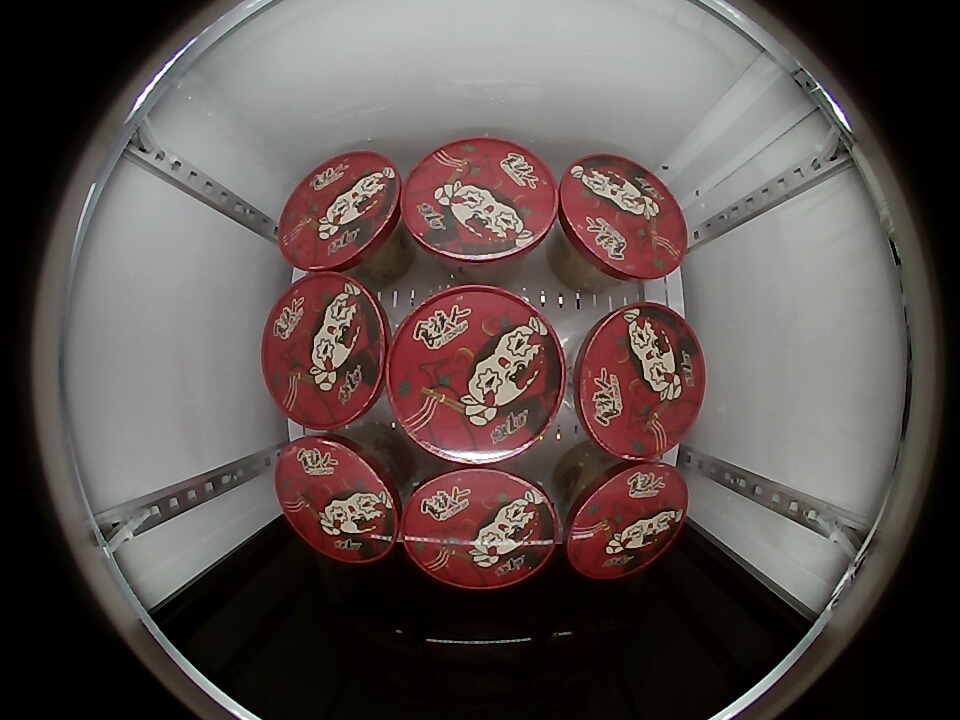suanlafen: (385, 285, 569, 464), (572, 302, 706, 461), (262, 272, 393, 430), (401, 138, 560, 267), (401, 465, 561, 589), (275, 434, 405, 564), (557, 154, 688, 281), (277, 151, 404, 273), (562, 460, 690, 579)
